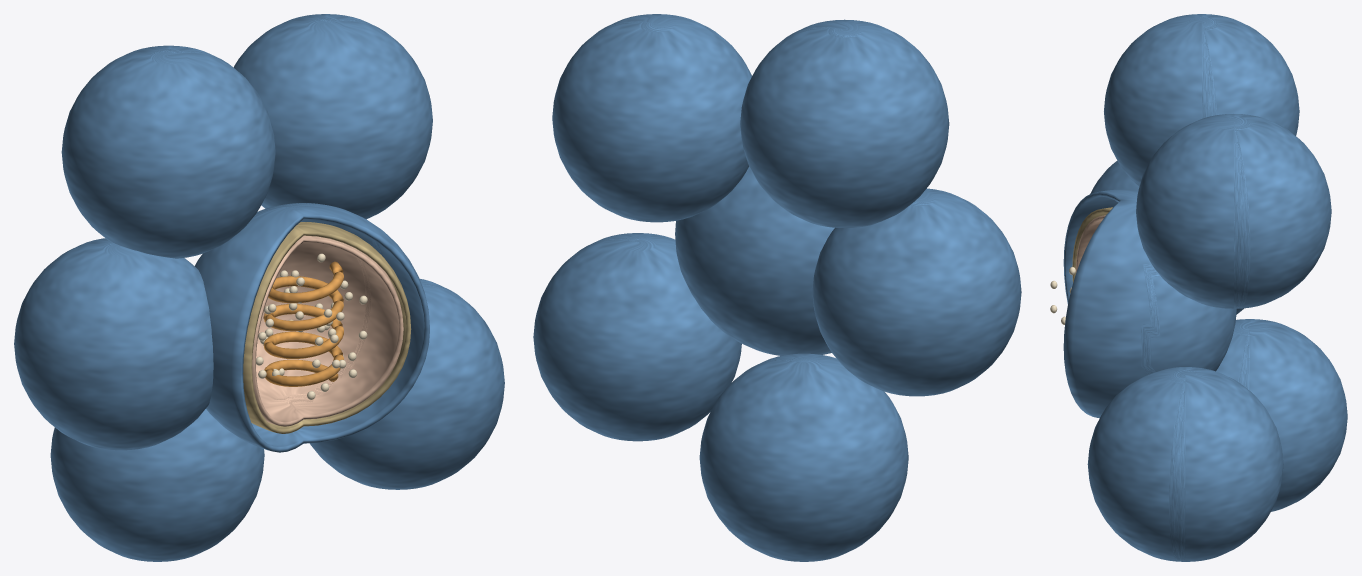
File: cutaway.glb
The picture shows the model from 3 angles, left to right: view 1: azimuth 30°, elevation 25°; view 2: azimuth 150°, elevation 25°; view 3: azimuth 270°, elevation 25°; orthographic projection. The views are drawn at different scales.
Visible parts, largest first — view 1: parede_mesh, citoplasma_mesh, nucleoide_mesh, membrana_mesh, ribossomos_mesh; view 2: parede_mesh; view 3: parede_mesh, citoplasma_mesh, membrana_mesh.
Part boxes in pixels (<box>): parede_mesh: <box>14,14,504,561</box>; citoplasma_mesh: <box>252,235,403,426</box>; nucleoide_mesh: <box>263,261,343,386</box>; membrana_mesh: <box>243,222,411,433</box>; ribossomos_mesh: <box>256,253,367,399</box>; parede_mesh: <box>533,14,1021,561</box>; parede_mesh: <box>1063,14,1347,561</box>; citoplasma_mesh: <box>1076,215,1105,272</box>; membrana_mesh: <box>1072,207,1112,282</box>.
Bounding box in the file's own units: 3.07 × 3.27 × 1.85.
5 materials, 5 textured.
